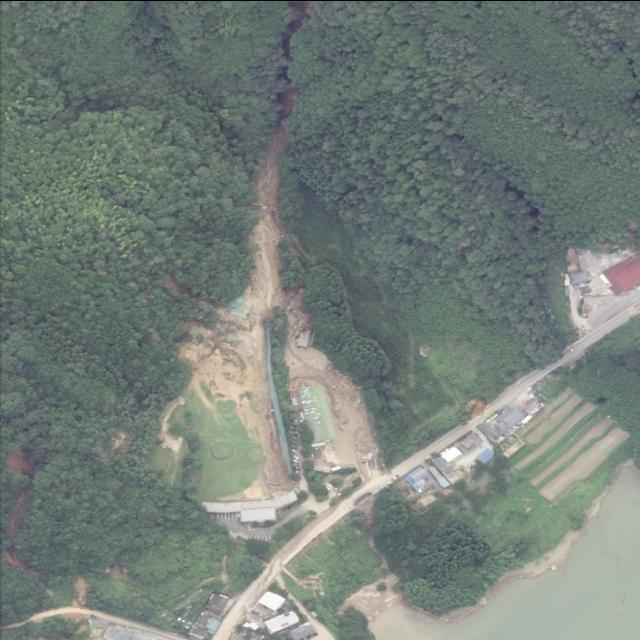landslide: (179, 128, 295, 500), (285, 331, 383, 481)
